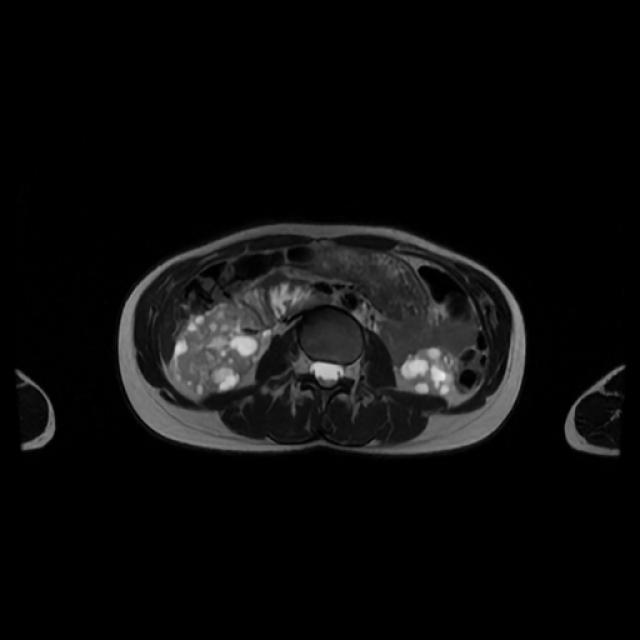sag: (174, 307, 263, 395)
sol: (400, 349, 460, 396)
